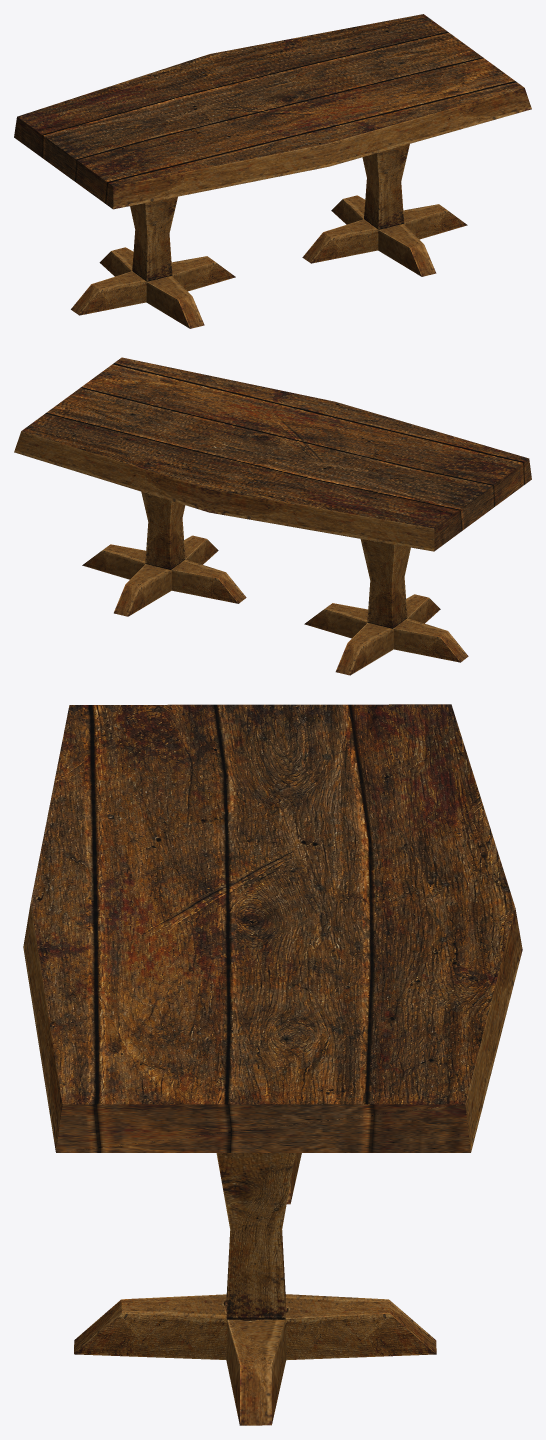
File: mm9_deco_table02.glb
3 renders of one model, top to bottom at view 1: azimuth 30°, elevation 25°; view 2: azimuth 150°, elevation 25°; view 3: azimuth 270°, elevation 25°, orthographic. The views are drawn at different scales.
Parts seen in each view (by area): view 1: Table02; view 2: Table02; view 3: Table02.
Part boxes in pixels (box(x1,y1,x2,y2)): Table02: box(14, 14, 531, 328); Table02: box(14, 357, 531, 675); Table02: box(23, 704, 522, 1425).
Size of the model in its own units: 2.68 by 1.03 by 1.39.
2 materials, 2 textured.
